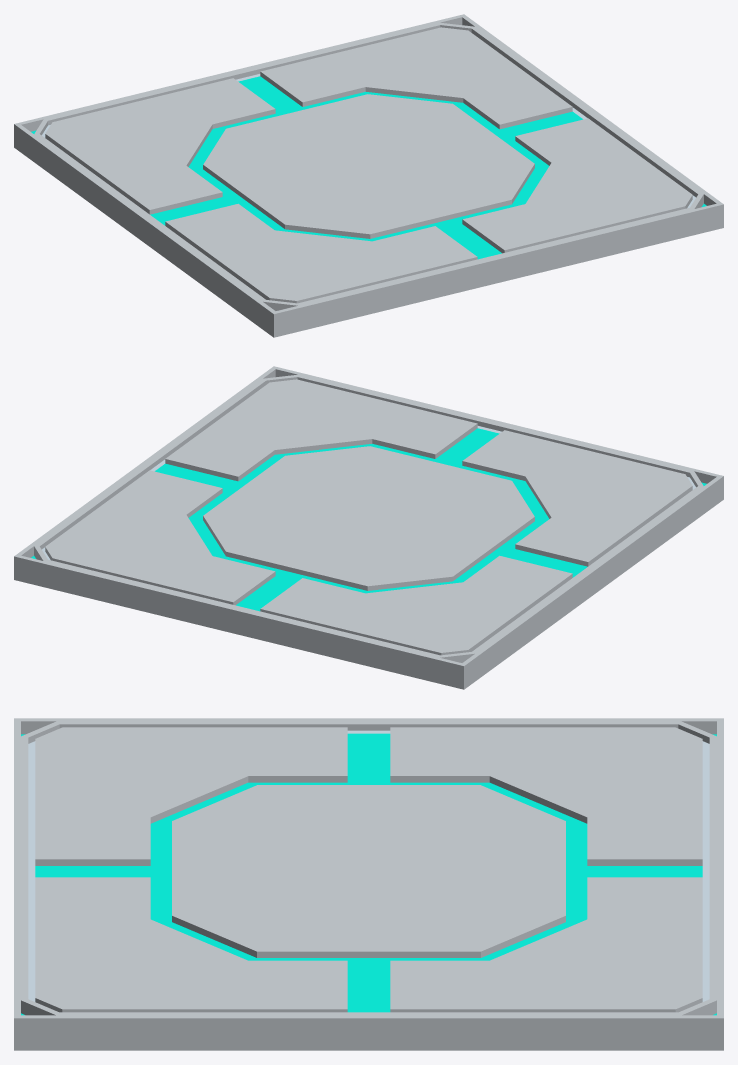
The model's file is floor-02.fbx.
The picture shows the model from 3 angles, top to bottom: view 1: azimuth 30°, elevation 25°; view 2: azimuth 150°, elevation 25°; view 3: azimuth 270°, elevation 25°; orthographic projection. The views are drawn at different scales.
Visible parts, largest first — view 1: floor-02; view 2: floor-02; view 3: floor-02.
Part boxes in pixels (left/top/right/bottom): floor-02: left=14, top=14, right=723, bottom=337; floor-02: left=14, top=366, right=723, bottom=689; floor-02: left=14, top=718, right=723, bottom=1050.
Size of the model in its own units: 100 by 5 by 100.
